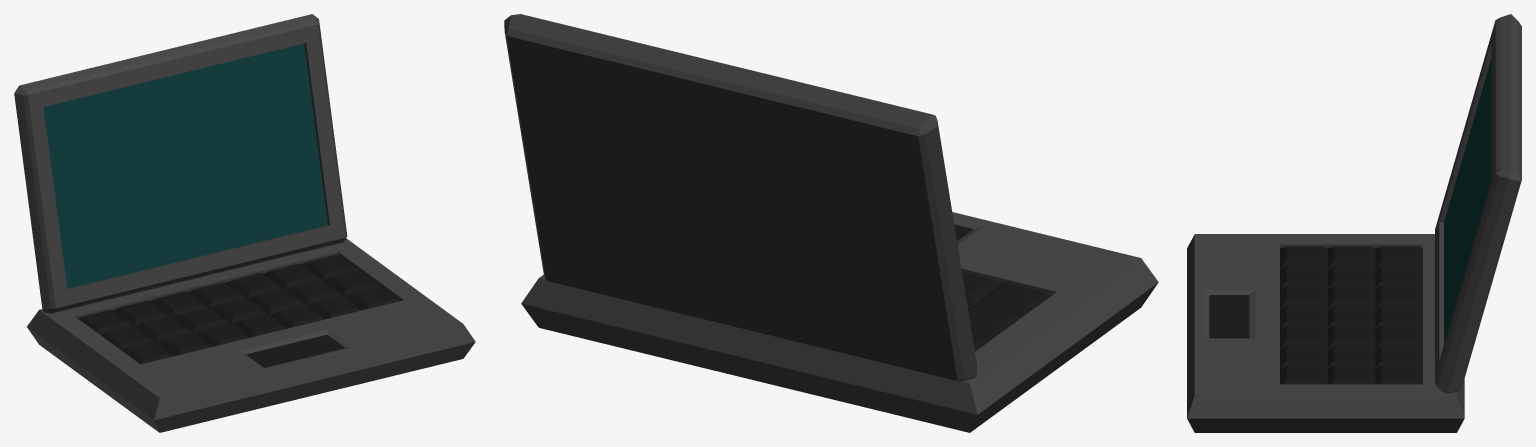
The model's file is hh_laptop.glb.
3 renders of one model, left to right at view 1: azimuth 30°, elevation 25°; view 2: azimuth 150°, elevation 25°; view 3: azimuth 270°, elevation 25°, orthographic. The views are drawn at different scales.
Visible parts, largest first — view 1: Laptop; view 2: Laptop; view 3: Laptop.
Part boxes in pixels (box(x1,y1,x2,y2)): Laptop: box(14, 14, 475, 432); Laptop: box(504, 14, 1158, 432); Laptop: box(1187, 14, 1521, 432).
Bounding box in the file's own units: 0.5601 × 0.3992 × 0.4648.
